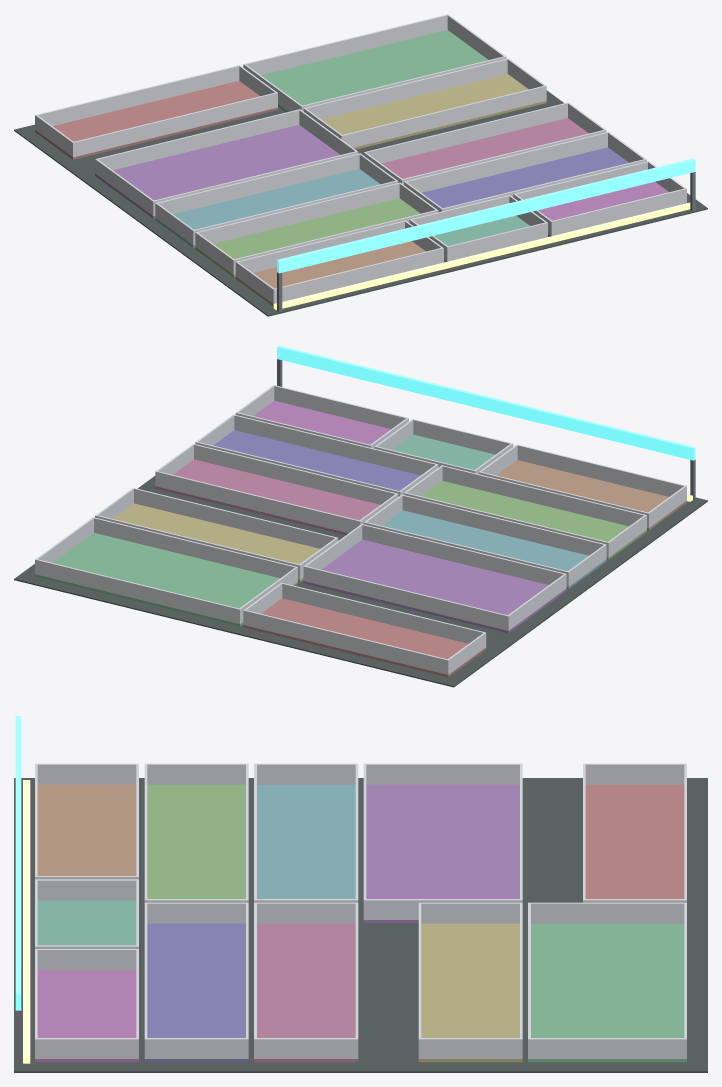
The model's file is hall-robotics.glb.
3 renders of one model, top to bottom at view 1: azimuth 30°, elevation 25°; view 2: azimuth 150°, elevation 25°; view 3: azimuth 270°, elevation 25°, orthographic. The views are drawn at different scales.
Parts seen in each view (by area): view 1: Industrial Robotics Techs; view 2: Industrial Robotics Techs; view 3: Industrial Robotics Techs.
Boxes of the visible parts, x1,y1,x2,y2 form: Industrial Robotics Techs: (14, 14, 707, 316); Industrial Robotics Techs: (14, 345, 707, 687); Industrial Robotics Techs: (14, 716, 707, 1072).
Size of the model in its own units: 38 by 4.3 by 38.
